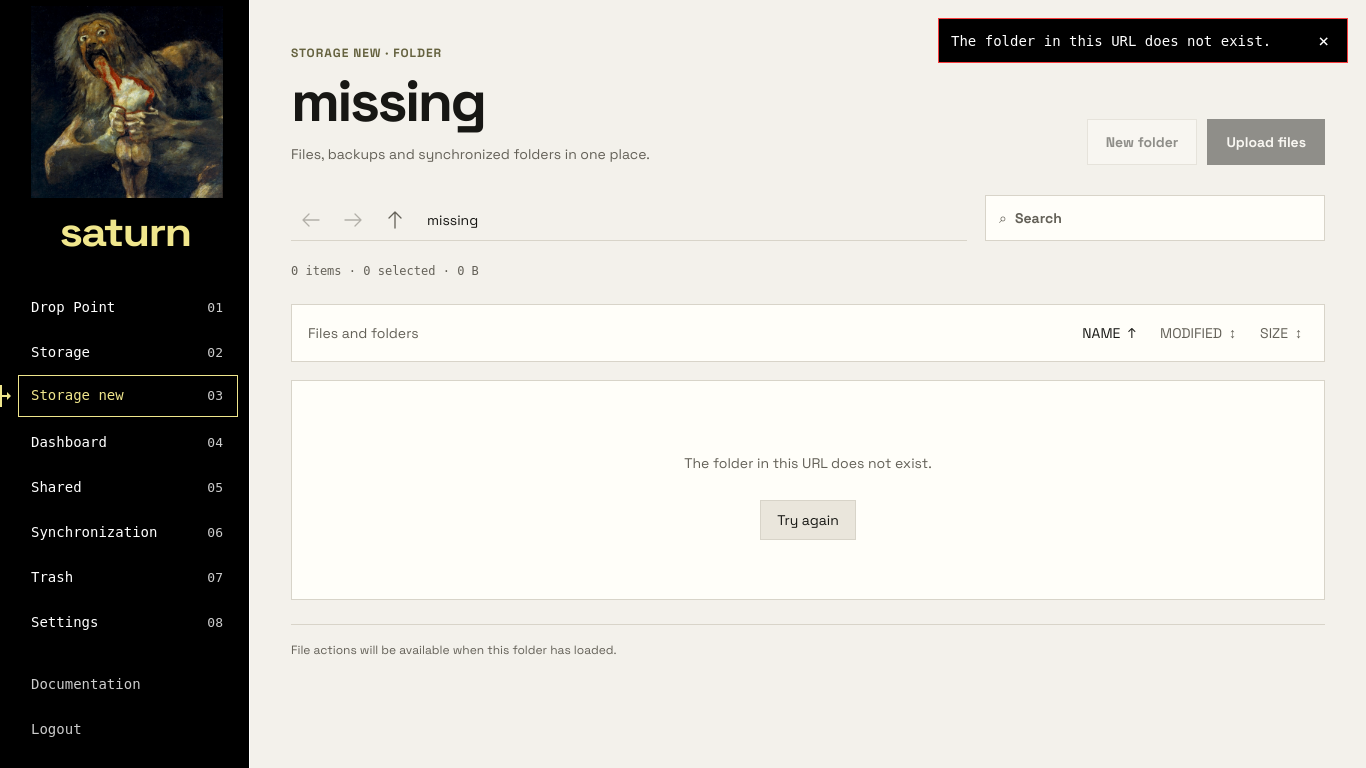
Test: Storage new › opens the parent of a direct nested URL, including a failed path, without inventing Back history
Check: the message "The folder in this URL does not exist. Try again" is shown, box [291, 380, 1325, 600]
Check: the button named "Back" is disabled, box [291, 200, 331, 240]
Click the button named "Up one level" at (395,220), box [375, 200, 415, 240]
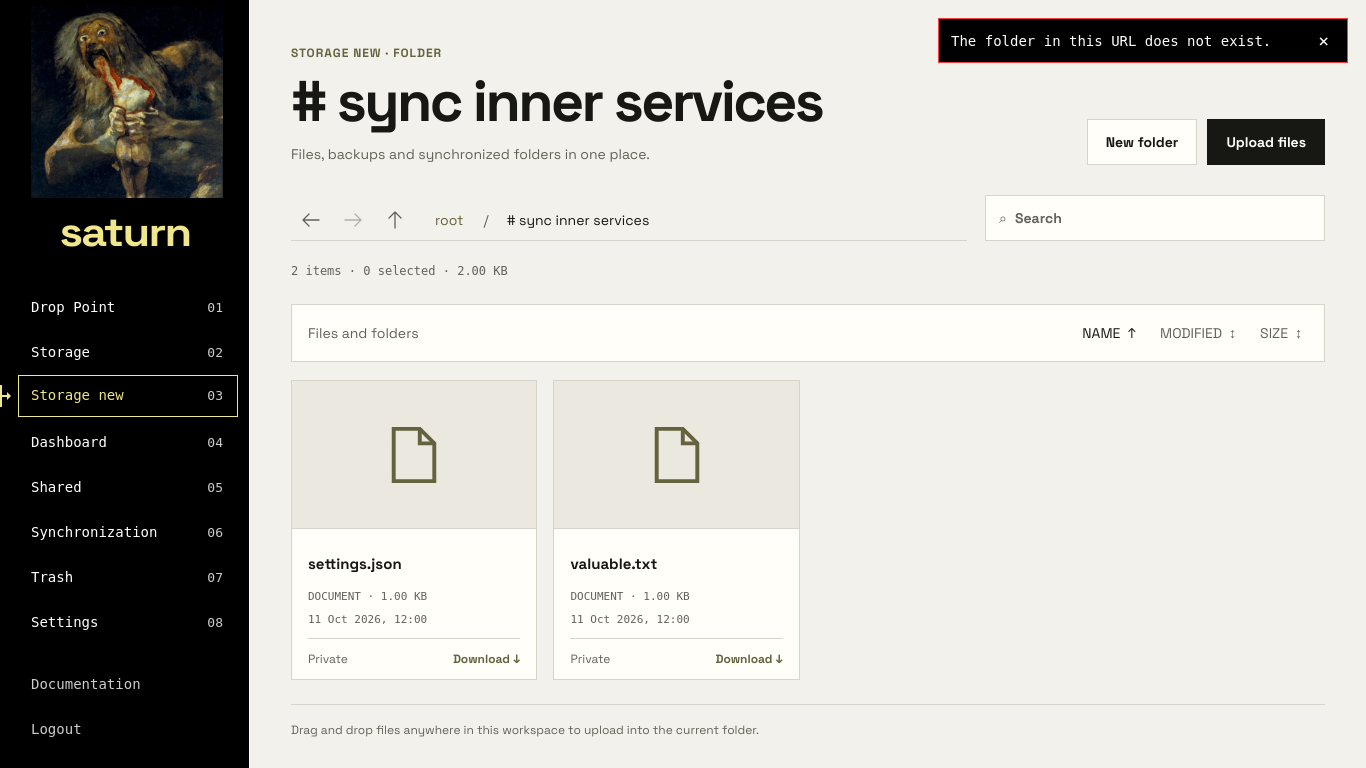
Check: the element "valuable.txt" is shown, box [554, 380, 800, 680]
